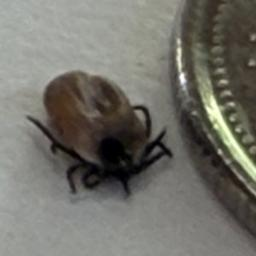Ixodes scapularis: (24, 70, 172, 197)
